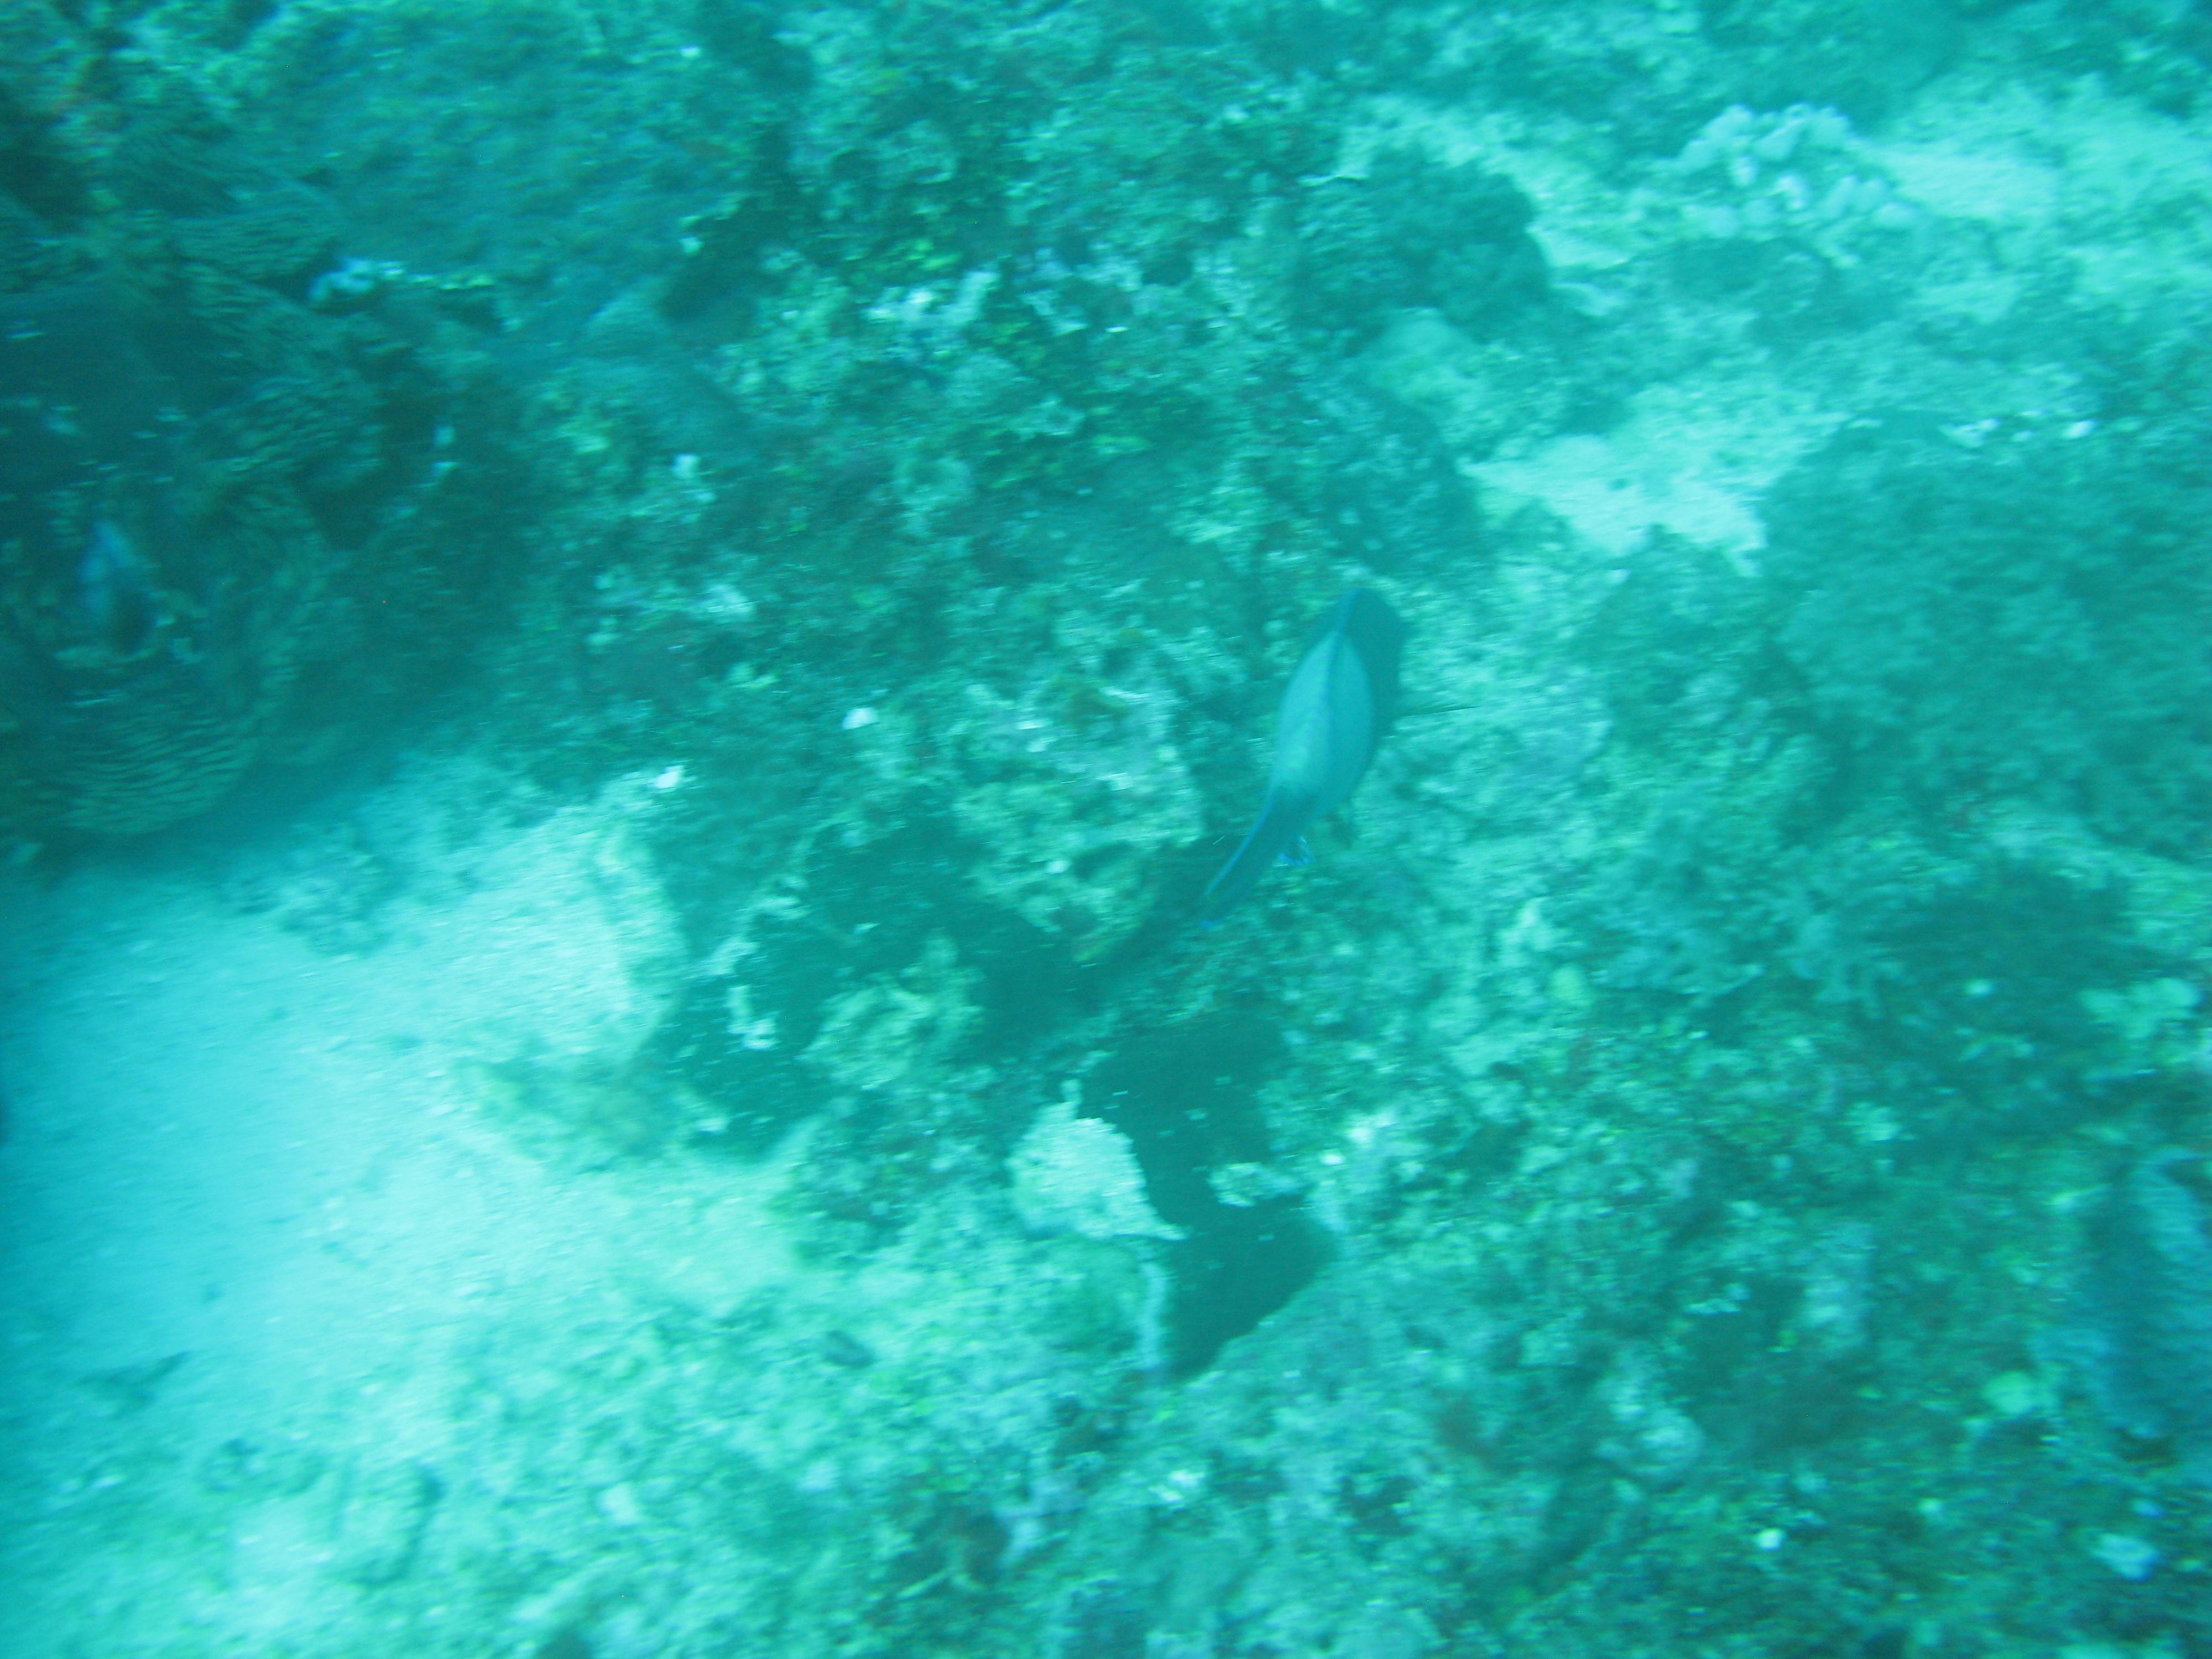Fish: (1096, 413, 1585, 1011)
